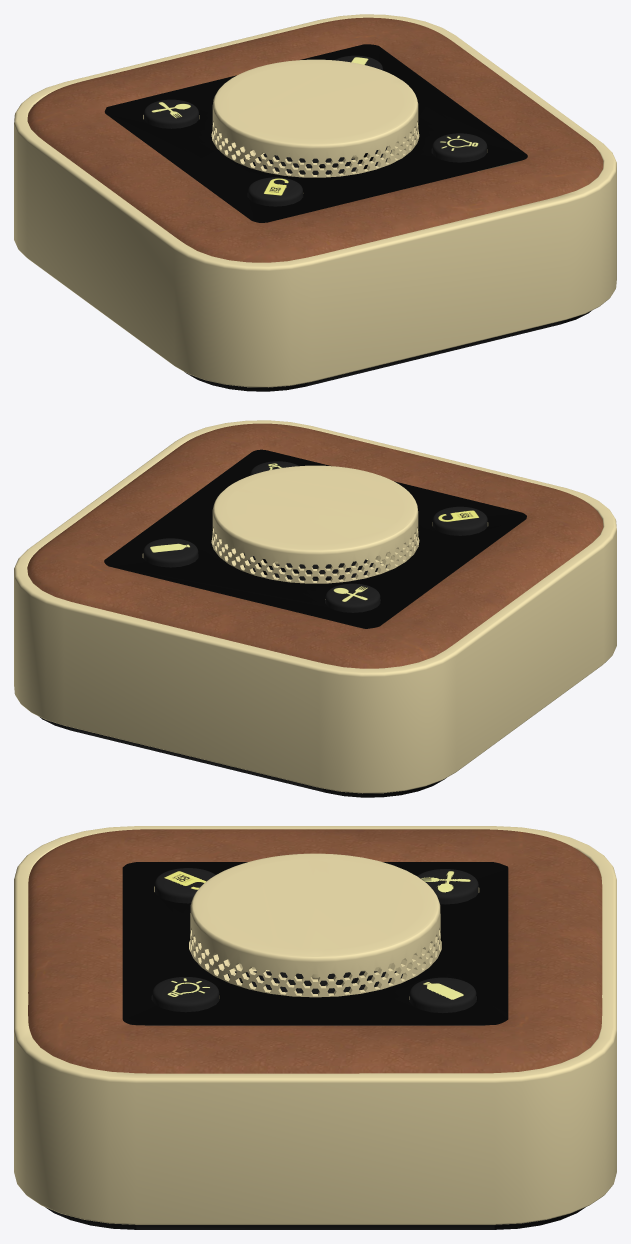
File: obedio-button.glb
3 renders of one model, top to bottom at view 1: azimuth 30°, elevation 25°; view 2: azimuth 150°, elevation 25°; view 3: azimuth 270°, elevation 25°, orthographic. The views are drawn at different scales.
Visible parts, largest first — view 1: Fillet69, TOP_PART_FINAL_MAIN001, Move_Face5, Chamfer13, Cut_Extrude15, Chamfer2_1, Chamfer2_2, Chamfer2_4; view 2: Fillet69, TOP_PART_FINAL_MAIN001, Move_Face5, Chamfer13, Cut_Extrude15, Chamfer2_4, Chamfer2_3, Chamfer2_2; view 3: Fillet69, TOP_PART_FINAL_MAIN001, Move_Face5, Chamfer13, Cut_Extrude15, Chamfer2_3, Chamfer2_1, Chamfer2_2, Chamfer2_4.
Boxes of the visible parts, x1,y1,x2,y2 form: Fillet69: (14, 14, 616, 387); TOP_PART_FINAL_MAIN001: (27, 17, 603, 262); Move_Face5: (211, 59, 419, 193); Chamfer13: (104, 44, 527, 222); Cut_Extrude15: (185, 146, 590, 391); Chamfer2_1: (432, 133, 487, 172); Chamfer2_2: (144, 99, 198, 128); Chamfer2_4: (248, 177, 302, 206); Fillet69: (14, 420, 616, 793); TOP_PART_FINAL_MAIN001: (27, 423, 603, 668); Move_Face5: (211, 465, 419, 599); Chamfer13: (104, 449, 526, 628); Cut_Extrude15: (40, 552, 445, 797); Chamfer2_4: (432, 506, 487, 535); Chamfer2_3: (143, 538, 198, 567); Chamfer2_2: (325, 583, 380, 612); Fillet69: (14, 826, 616, 1224); TOP_PART_FINAL_MAIN001: (28, 829, 602, 1073); Move_Face5: (189, 853, 441, 999); Chamfer13: (122, 862, 508, 1024); Cut_Extrude15: (45, 971, 585, 1229); Chamfer2_3: (409, 977, 476, 1025); Chamfer2_1: (152, 977, 219, 1025); Chamfer2_2: (417, 869, 478, 904); Chamfer2_4: (154, 868, 215, 903).
Size of the model in its own units: 0.072 by 0.027 by 0.072.
Materials: 10 (5 with a texture image).
